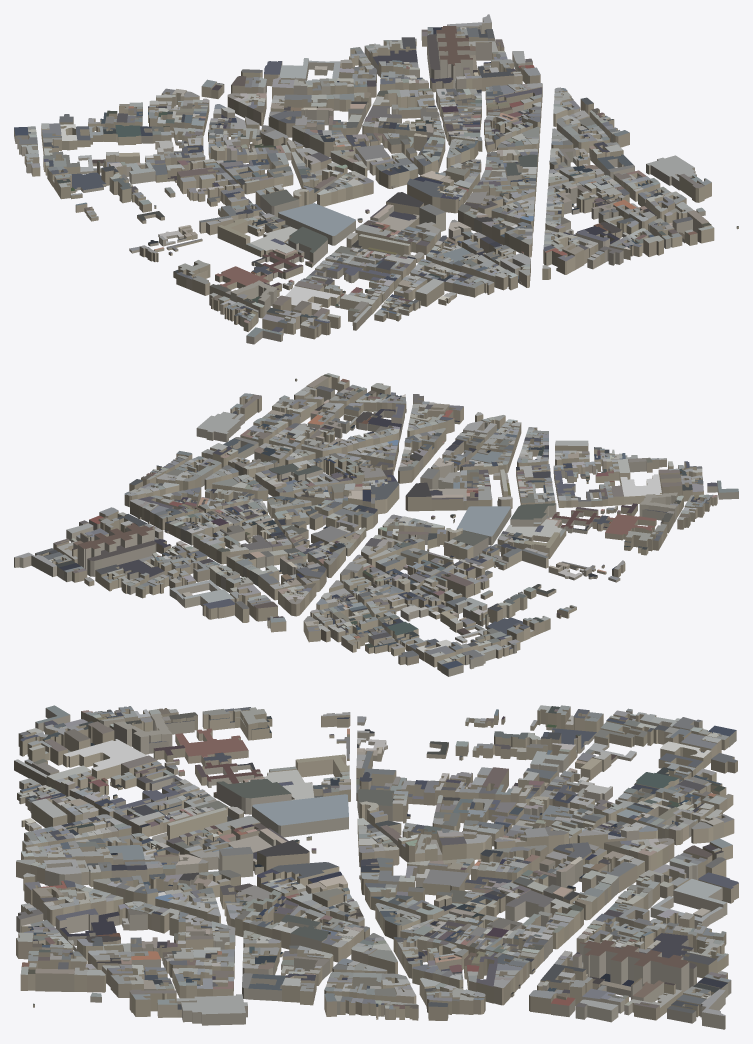
3 renders of one model, top to bottom at view 1: azimuth 30°, elevation 25°; view 2: azimuth 150°, elevation 25°; view 3: azimuth 270°, elevation 25°, orthographic. The views are drawn at different scales.
Parts seen in each view (by area): view 1: tuile; view 2: tuile; view 3: tuile.
Boxes of the visible parts, x1,y1,x2,y2 form: tuile: (14,14,738,344); tuile: (14,373,738,676); tuile: (14,705,738,1029).
Bounding box in the file's own units: 1055 × 49.46 × 1035.
